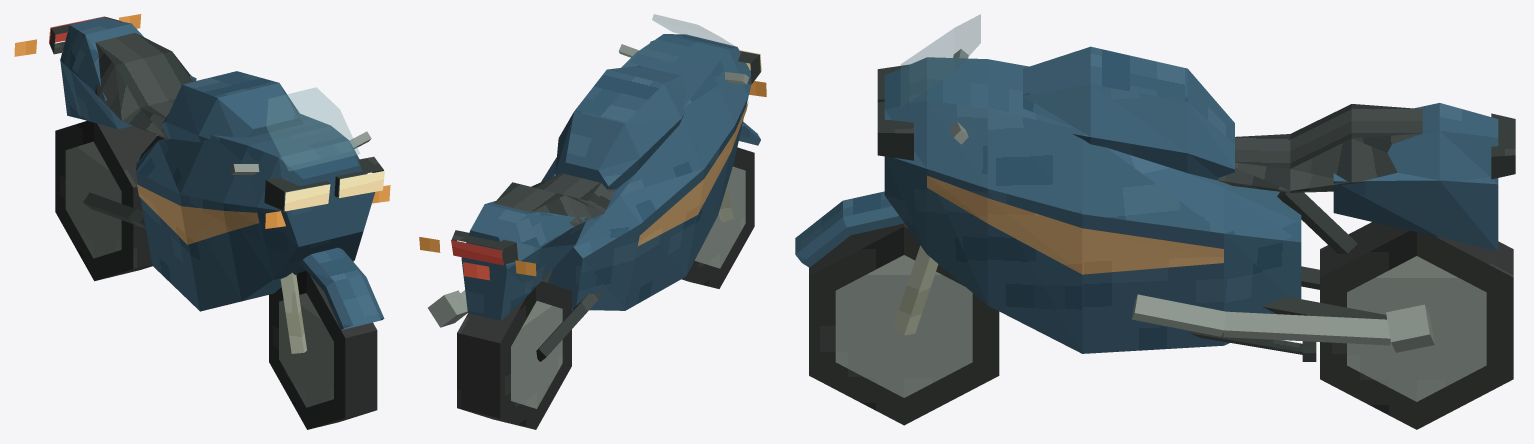
File: kelveran-2005-mid.glb
3 views of the same model, side by side, from view 1: azimuth 30°, elevation 25°; view 2: azimuth 150°, elevation 25°; view 3: azimuth 270°, elevation 25° (orthographic). The views are drawn at different scales.
Visible parts, largest first — view 1: body, Low detail tyre, Low detail tyre.001, Distance hub.002, Distance hub, Front valanced or bobbed mudguard, Fork leg, Lamp lens.001, Lamp lens, Stove enamel lamp bucket.001, Stove enamel lamp bucket, Stove enamel lamp bucket.002; view 2: body, Low detail tyre.001, Distance hub.002, Low detail tyre, Distance hub, Lamp lens.002, Stove enamel lamp bucket.002, Stove enamel lamp bucket.001, Lamp lens.003; view 3: body, Low detail tyre.001, Distance hub.001, Low detail tyre, Distance hub.003, Front valanced or bobbed mudguard, Fork leg.001, Stove enamel lamp bucket, Stove enamel lamp bucket.002, Folding stand leg.
Boxes of the visible parts, x1,y1,x2,y2 form: body: [60, 17, 375, 311]; Low detail tyre: [269, 271, 377, 429]; Low detail tyre.001: [55, 121, 156, 281]; Distance hub.002: [65, 141, 121, 258]; Distance hub: [279, 293, 333, 407]; Front valanced or bobbed mudguard: [299, 247, 384, 330]; Fork leg: [280, 272, 306, 353]; Lamp lens.001: [284, 184, 330, 211]; Lamp lens: [339, 171, 384, 197]; Stove enamel lamp bucket.001: [264, 177, 329, 210]; Stove enamel lamp bucket: [334, 156, 383, 197]; Stove enamel lamp bucket.002: [49, 17, 121, 54]; body: [428, 14, 751, 361]; Low detail tyre.001: [457, 281, 571, 429]; Distance hub.002: [511, 301, 562, 408]; Low detail tyre: [681, 147, 754, 288]; Distance hub: [694, 166, 745, 268]; Lamp lens.002: [451, 240, 503, 265]; Stove enamel lamp bucket.002: [451, 230, 518, 264]; Stove enamel lamp bucket.001: [738, 51, 760, 84]; Lamp lens.003: [463, 262, 489, 280]; body: [884, 14, 1498, 353]; Low detail tyre.001: [1320, 222, 1513, 429]; Distance hub.001: [835, 255, 972, 397]; Low detail tyre: [809, 223, 999, 425]; Distance hub.003: [1347, 256, 1486, 401]; Front valanced or bobbed mudguard: [795, 191, 904, 267]; Fork leg.001: [893, 245, 938, 335]; Stove enamel lamp bucket: [877, 101, 913, 160]; Stove enamel lamp bucket.002: [1491, 113, 1515, 179]; Folding stand leg: [1189, 331, 1309, 354].
Size of the model in its own units: 0.636 by 1.17 by 1.99.
6 materials, 6 textured.
